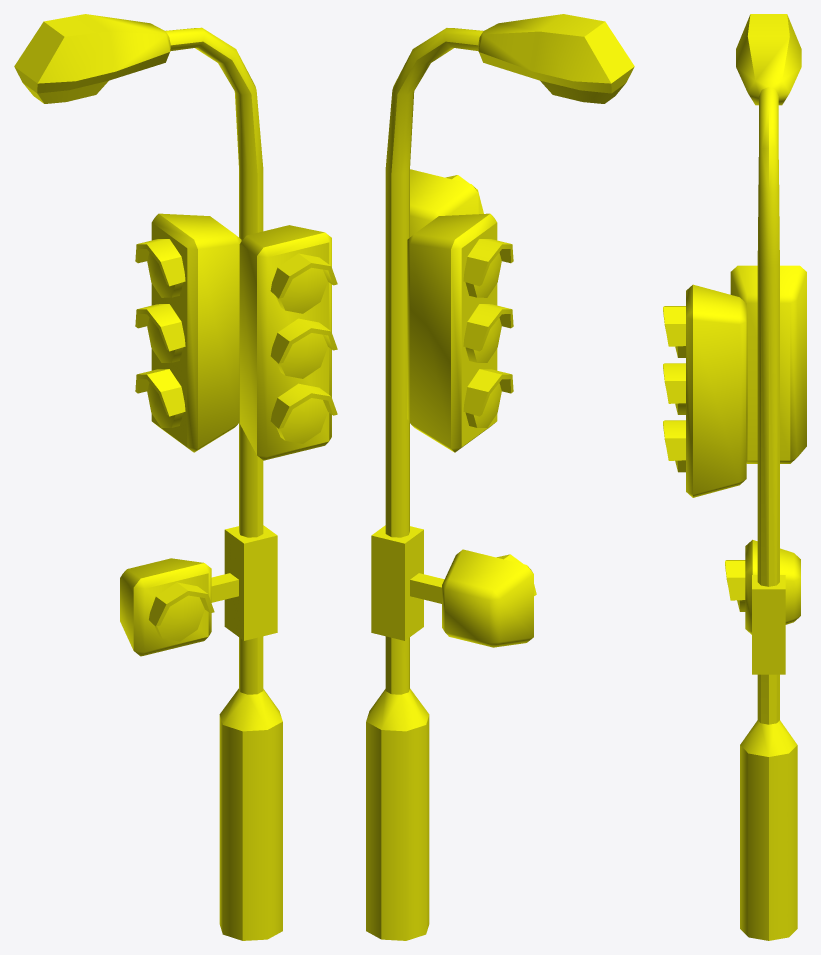
Rendered from kaykit-trafficlight-b.glb.
3 renders of one model, left to right at view 1: azimuth 30°, elevation 25°; view 2: azimuth 150°, elevation 25°; view 3: azimuth 270°, elevation 25°, orthographic. The views are drawn at different scales.
Parts seen in each view (by area): view 1: trafficlight_B; view 2: trafficlight_B; view 3: trafficlight_B.
Part boxes in pixels (x1,y1,x2,y2): trafficlight_B: (14, 14, 337, 940); trafficlight_B: (366, 14, 634, 940); trafficlight_B: (663, 14, 806, 940).
Bounding box in the file's own units: 0.279 × 0.9599 × 0.1506.
